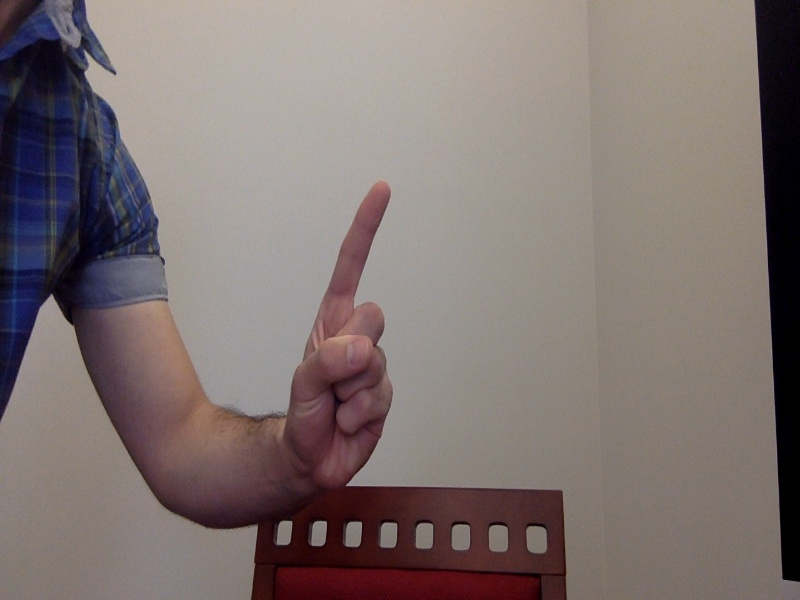1-hand: (286, 179, 398, 491)
